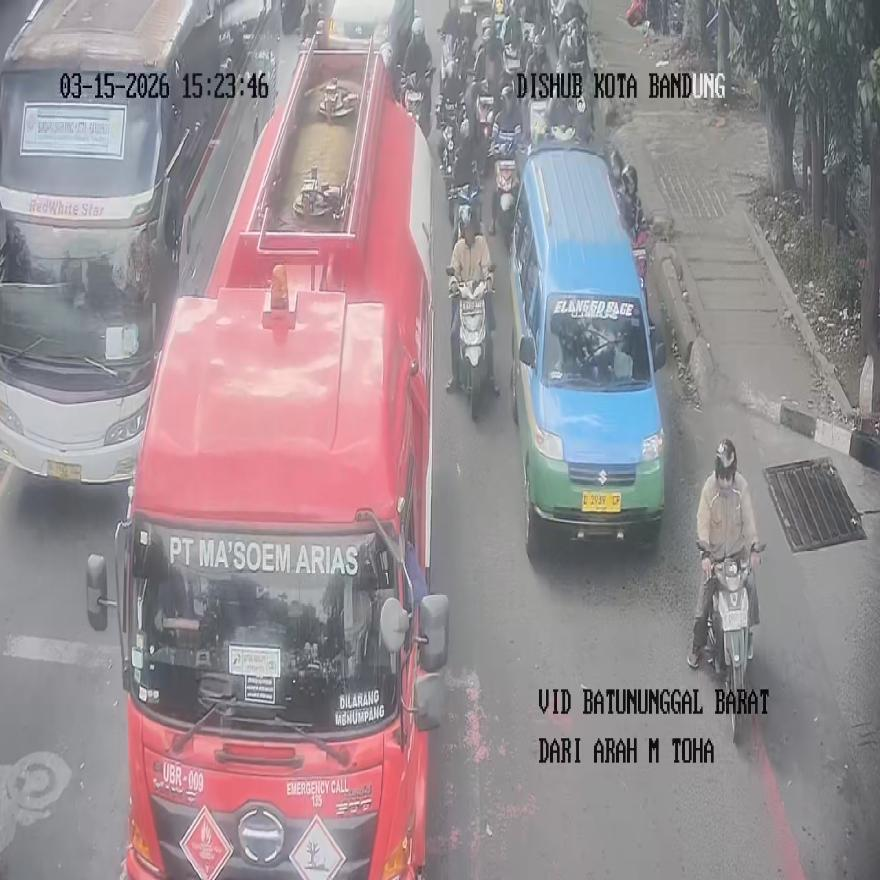Mobil: (509, 139, 665, 560)
Motor: (708, 557, 752, 744), (447, 267, 492, 420), (492, 146, 519, 250), (530, 102, 588, 146), (448, 168, 481, 240), (401, 67, 435, 136), (617, 165, 646, 239), (550, 0, 585, 56), (496, 16, 523, 81), (558, 20, 588, 77), (441, 32, 470, 90), (476, 81, 495, 155), (438, 120, 459, 179), (436, 93, 466, 132), (633, 216, 648, 293), (503, 44, 521, 81), (522, 21, 536, 42)
Truk berat: (86, 40, 450, 879)
bus: (0, 0, 280, 483)
